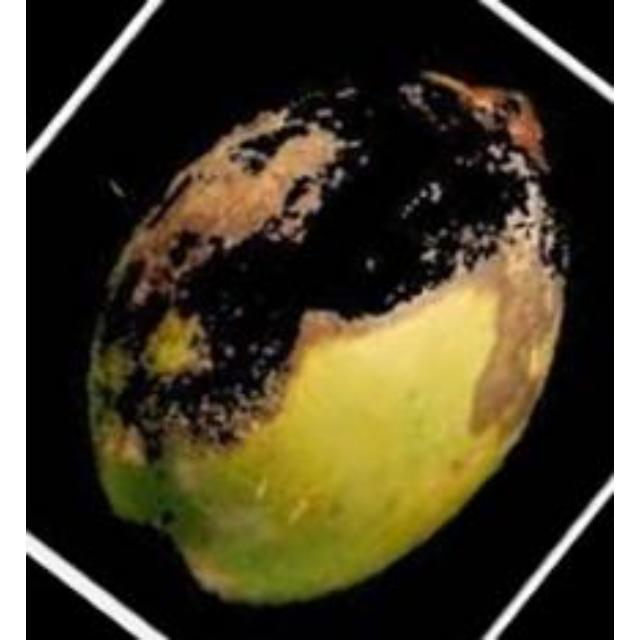damaged: (83, 71, 570, 610)
